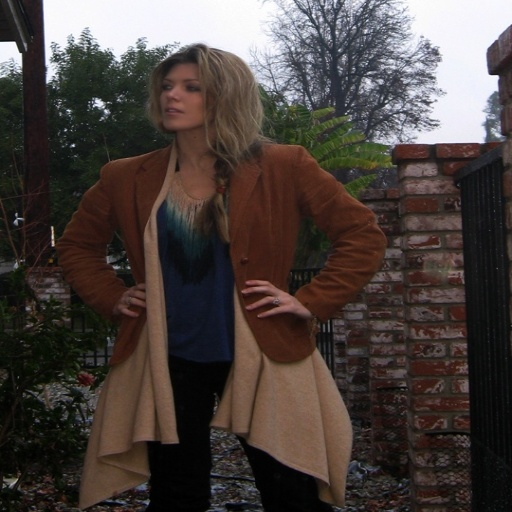hand: (245, 277, 310, 327), (111, 283, 149, 321)
